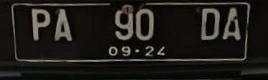0: (134, 7, 156, 41)
9: (112, 7, 134, 41)
A: (52, 7, 75, 42), (222, 6, 242, 41)
D: (198, 5, 223, 41)
P: (30, 6, 52, 42)
